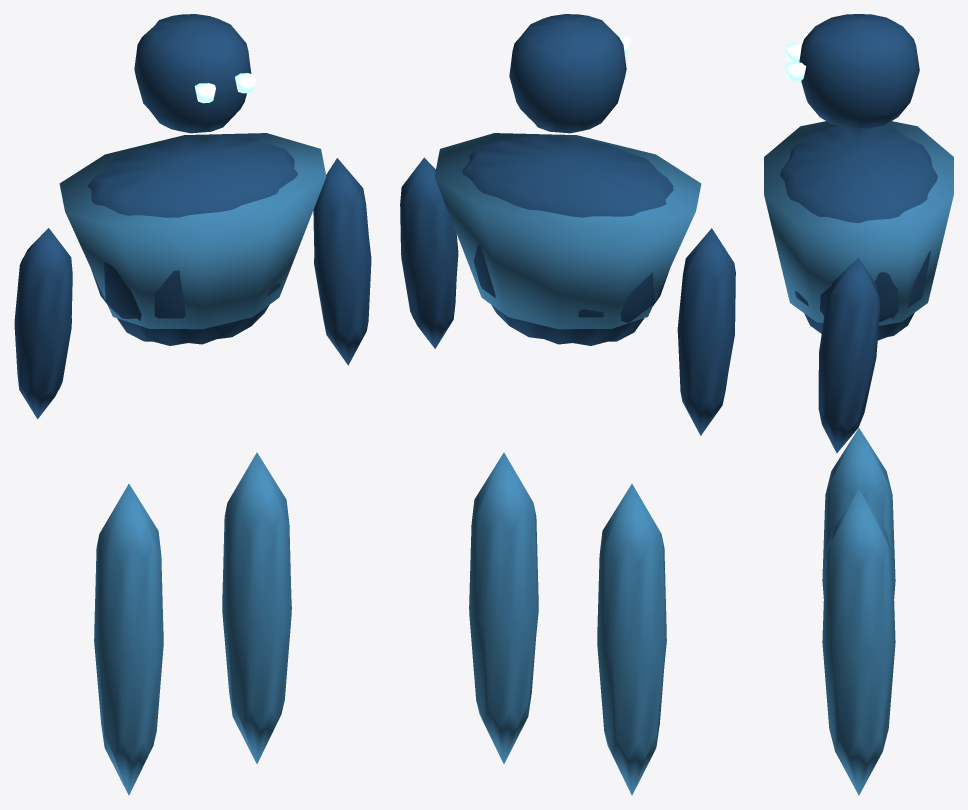
The model's file is wraith.glb.
The picture shows the model from 3 angles, left to right: view 1: azimuth 30°, elevation 25°; view 2: azimuth 150°, elevation 25°; view 3: azimuth 270°, elevation 25°; orthographic projection.
Visible parts, largest first — view 1: ChestGear, Torso.001, Leg_LegR, Leg_LegL, Head.001, Arm_ArmR, Arm_ArmL; view 2: ChestGear, Torso.001, Leg_LegR, Leg_LegL, Head.001, Arm_ArmL, Arm_ArmR; view 3: Leg_LegR, ChestGear, Torso.001, Head.001, Arm_ArmR, Leg_LegL, Eye_0.052500000000000005.
Boxes of the visible parts, x1=… form: ChestGear: x1=59, y1=133, x2=326, y2=329; Torso.001: x1=87, y1=136, x2=297, y2=345; Leg_LegR: x1=222, y1=452, x2=291, y2=763; Leg_LegL: x1=94, y1=484, x2=163, y2=795; Head.001: x1=134, y1=14, x2=251, y2=133; Arm_ArmR: x1=313, y1=158, x2=371, y2=365; Arm_ArmL: x1=14, y1=228, x2=72, y2=419; ChestGear: x1=434, y1=133, x2=701, y2=329; Torso.001: x1=462, y1=136, x2=673, y2=345; Leg_LegR: x1=469, y1=452, x2=538, y2=763; Leg_LegL: x1=597, y1=484, x2=666, y2=795; Head.001: x1=509, y1=14, x2=626, y2=133; Arm_ArmL: x1=677, y1=228, x2=735, y2=435; Arm_ArmR: x1=400, y1=157, x2=458, y2=348; Leg_LegR: x1=822, y1=489, x2=895, y2=795; ChestGear: x1=764, y1=121, x2=953, y2=325; Torso.001: x1=780, y1=126, x2=937, y2=340; Head.001: x1=799, y1=14, x2=919, y2=128; Arm_ArmR: x1=818, y1=257, x2=880, y2=453; Leg_LegL: x1=822, y1=428, x2=895, y2=598; Eye_0.052500000000000005: x1=784, y1=61, x2=806, y2=81.
Bounding box in the file's own units: 0.8896 × 1.9 × 0.4394.
3 materials, 3 textured.
